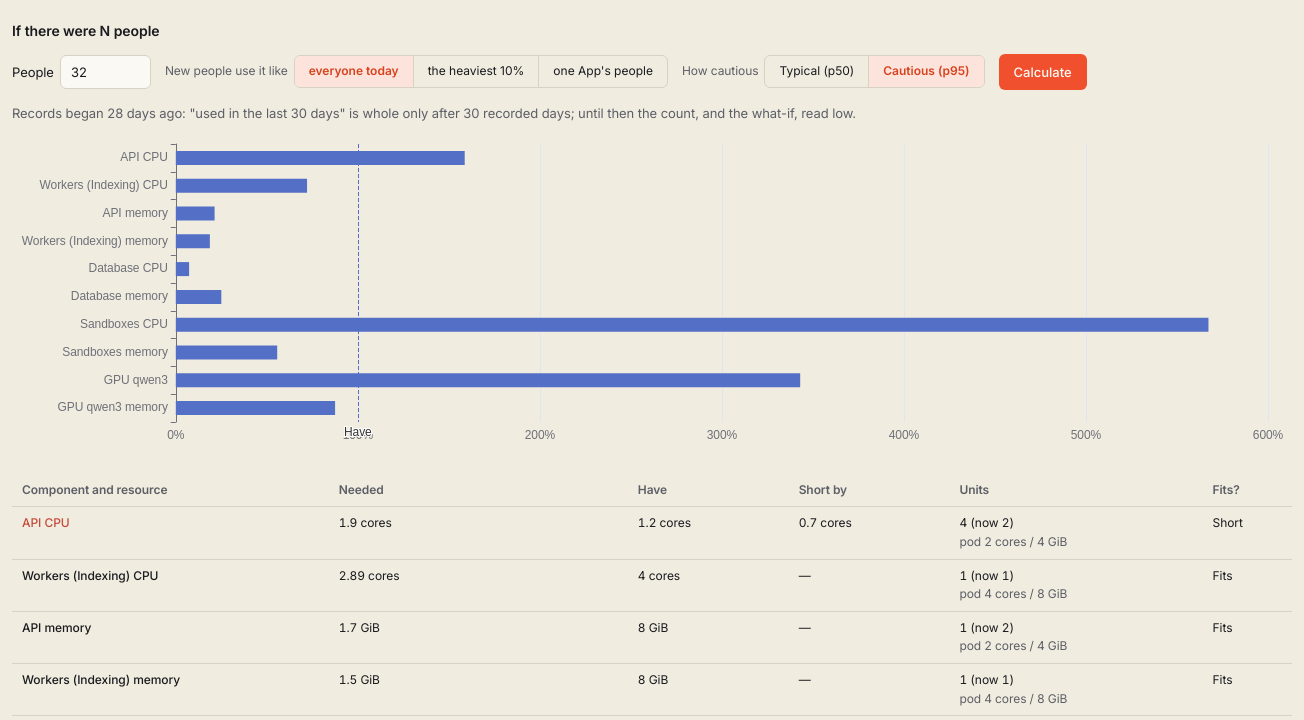
Test: what-if and runway (views 6, 7) › names a GPU's unit in the page's language
The image size is (1304, 720).
Click the button "one App's people" at (603, 72), box [538,56,667,87]
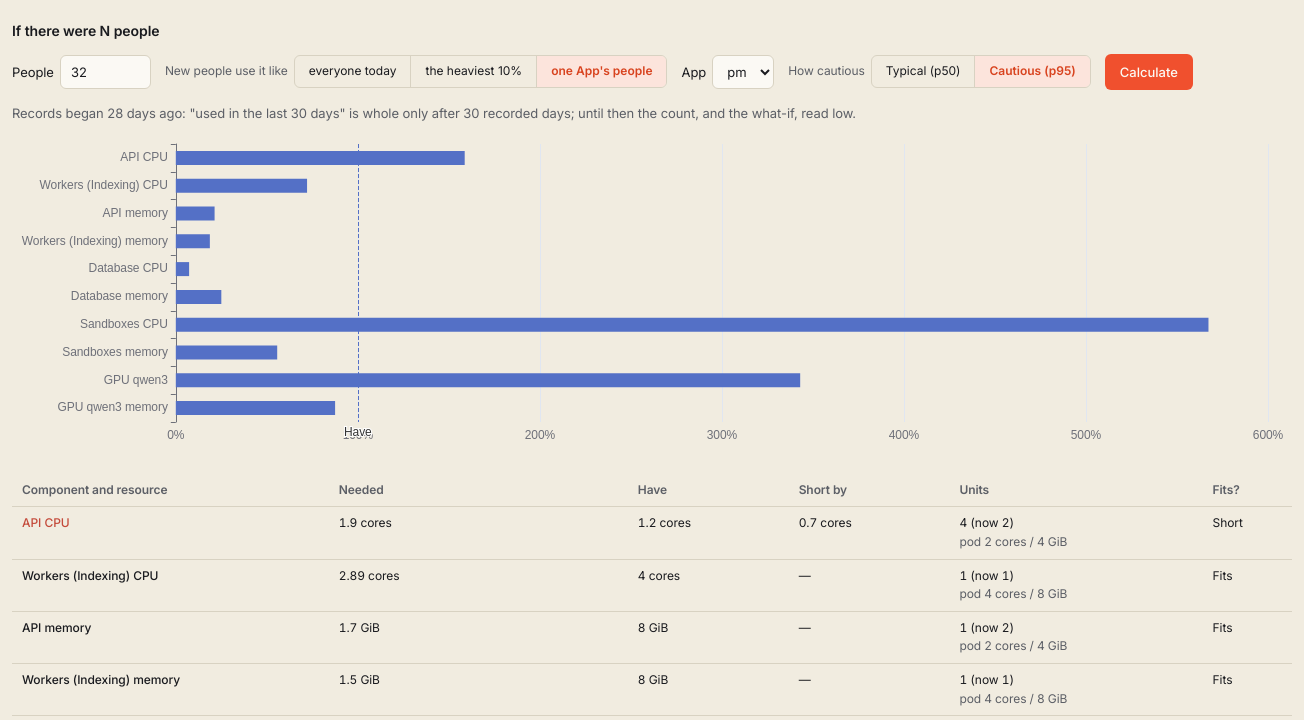
Expected: the dropdown labelled "App" is shown, [712,55,774,89]
